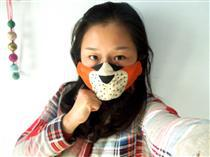OK: (79, 44, 136, 101)
